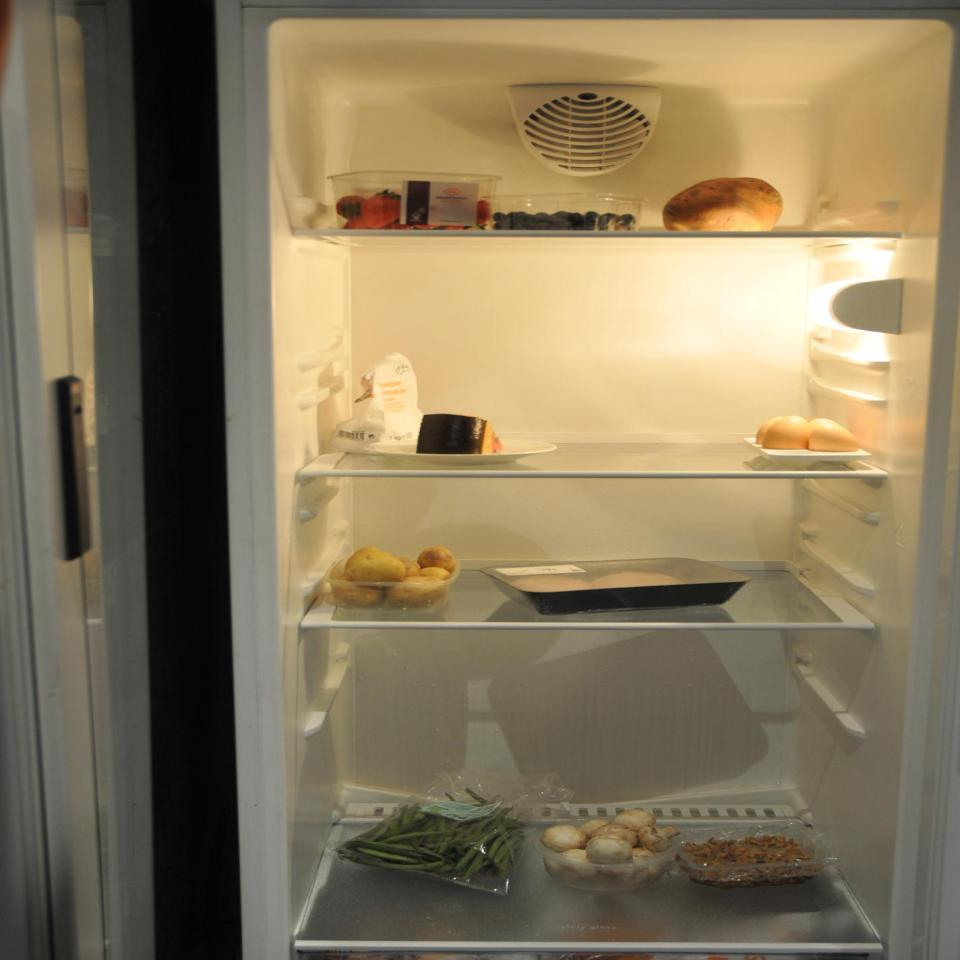Carne pollo: (499, 564, 690, 614)
Huevos: (748, 414, 864, 458)
Queso: (415, 412, 512, 458)
blueberries: (491, 206, 640, 231)
strawberries: (334, 182, 492, 232)
